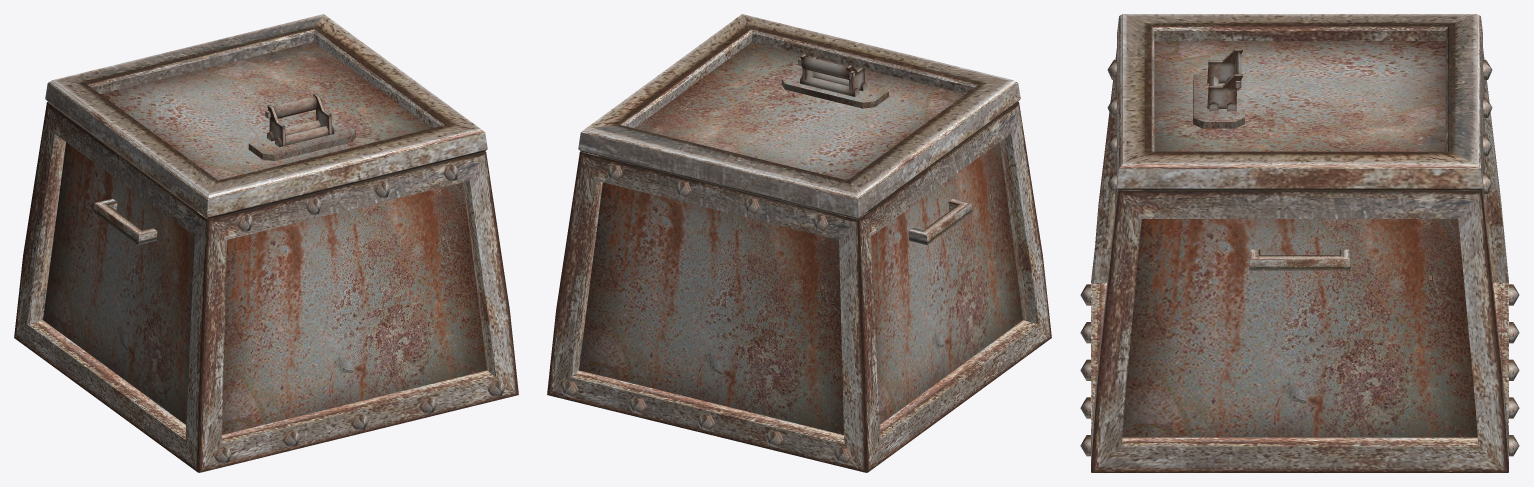
Rendered from static.glb.
3 views of the same model, side by side, from view 1: azimuth 30°, elevation 25°; view 2: azimuth 150°, elevation 25°; view 3: azimuth 270°, elevation 25° (orthographic). The views are drawn at different scales.
Visible parts, largest first — view 1: Cube_4, Sweep_6, Sweep_7, Sweep_8, Cube_2, Sweep_3, Cube_1, Cylinder_2, Cylinder; view 2: Cube_4, Sweep_6, Sweep_9, Sweep_8, Cube_2, Sweep_3, Cylinder_2, Cylinder_1; view 3: Cube_4, Sweep_10, Sweep_6, Sweep_9, Sweep_7, Cube_2, Sweep_3, Cube_1, Sweep_8.
Part boxes in pixels (x1,y1,x2,y2): Cube_4: [43, 42, 486, 434]; Sweep_6: [45, 14, 487, 218]; Sweep_7: [197, 151, 518, 472]; Sweep_8: [14, 102, 212, 472]; Cube_2: [248, 119, 355, 160]; Sweep_3: [93, 198, 157, 244]; Cube_1: [267, 93, 332, 146]; Cylinder_2: [269, 96, 316, 118]; Cylinder: [275, 125, 334, 146]; Cube_4: [579, 42, 1022, 434]; Sweep_6: [578, 14, 1020, 218]; Sweep_9: [547, 152, 868, 472]; Sweep_8: [845, 102, 1051, 472]; Cube_2: [781, 67, 888, 108]; Sweep_3: [908, 198, 972, 244]; Cylinder_2: [801, 56, 851, 80]; Cylinder_1: [800, 75, 859, 96]; Cube_4: [1122, 41, 1477, 437]; Sweep_10: [1091, 190, 1508, 472]; Sweep_6: [1117, 14, 1482, 190]; Sweep_9: [1457, 49, 1508, 472]; Sweep_7: [1091, 49, 1142, 472]; Cube_2: [1193, 70, 1245, 128]; Sweep_3: [1249, 249, 1350, 270]; Cube_1: [1207, 49, 1242, 108]; Sweep_8: [1094, 249, 1505, 282].
Bounding box in the file's own units: 1.99 × 1.69 × 2.09.
3 materials, 3 textured.
